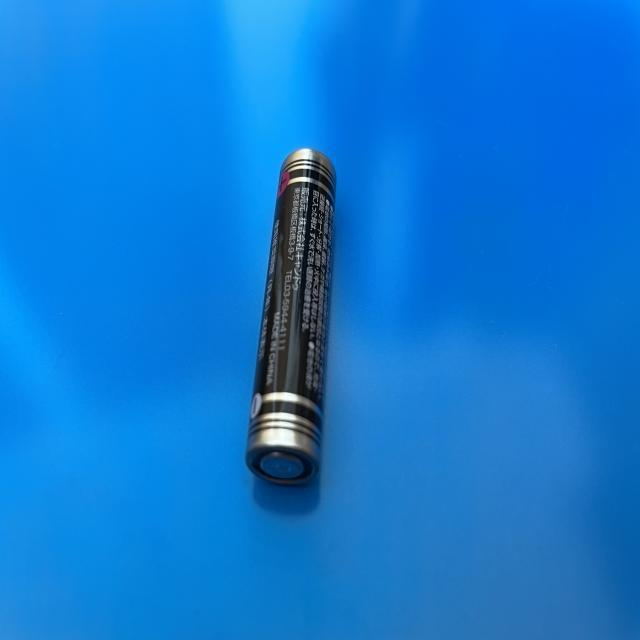hazardous waste: (244, 147, 339, 490)
